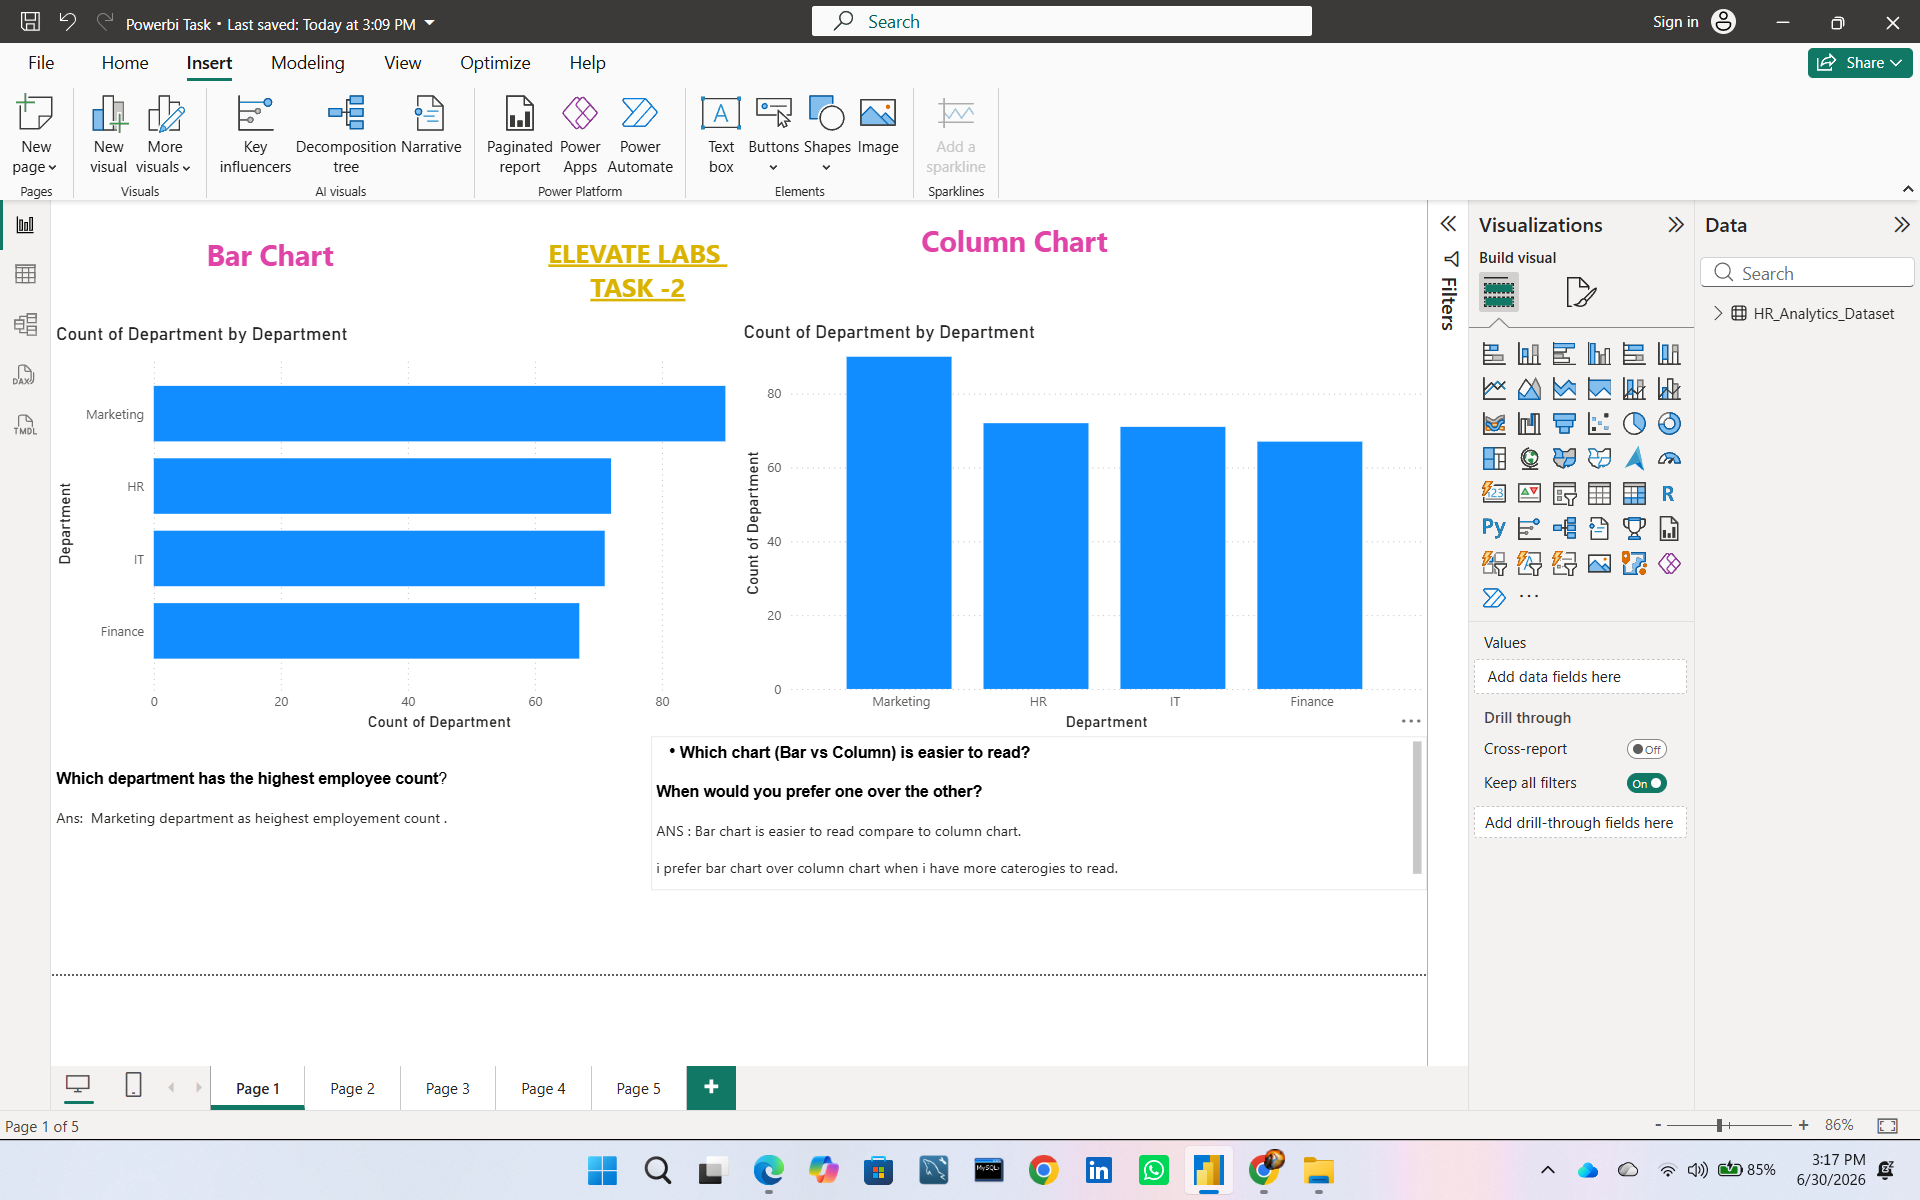

The dashboard page shown, as its layout file describes it:
{"tool":"powerbi","page":{"name":"Page 1","canvas":[1280,720],"ordinal":0},"visuals":[{"type":"barChart","fields":{"Category":["HR_Analytics_Dataset.Department"],"Y":["CountNonNull(HR_Analytics_Dataset.Department)"]},"box":[0,114,639.5,384.9],"z":0},{"type":"columnChart","fields":{"Category":["HR_Analytics_Dataset.Department"],"Y":["CountNonNull(HR_Analytics_Dataset.Department)"]},"box":[639.5,112.8,640.7,386],"z":1000},{"type":"textbox","box":[0,524.4,505.8,83.7],"z":2000},{"type":"textbox","box":[558.1,498.8,722.1,143],"z":3000},{"type":"textbox","box":[0,27.4,403.4,43.9],"z":4000},{"type":"textbox","box":[804.1,15.1,407.5,54.9],"z":5000},{"type":"textbox","box":[375.6,27.9,340.7,84.9],"z":5001}]}

Visuals, with their boxes on the page's 1280x720 design canvas (x1, y1, x2, y2). These are canvas units, not pixel positions in the 1920x1200 screenshot, which may show the page scaled, cropped or inside an application window:
barChart - HR_Analytics_Dataset.Department x CountNonNull(HR_Analytics_Dataset.Department): <region>0, 114, 640, 499</region>
columnChart - HR_Analytics_Dataset.Department x CountNonNull(HR_Analytics_Dataset.Department): <region>640, 113, 1280, 499</region>
textbox: <region>0, 524, 506, 608</region>
textbox: <region>558, 499, 1280, 642</region>
textbox: <region>0, 27, 403, 71</region>
textbox: <region>804, 15, 1212, 70</region>
textbox: <region>376, 28, 716, 113</region>
